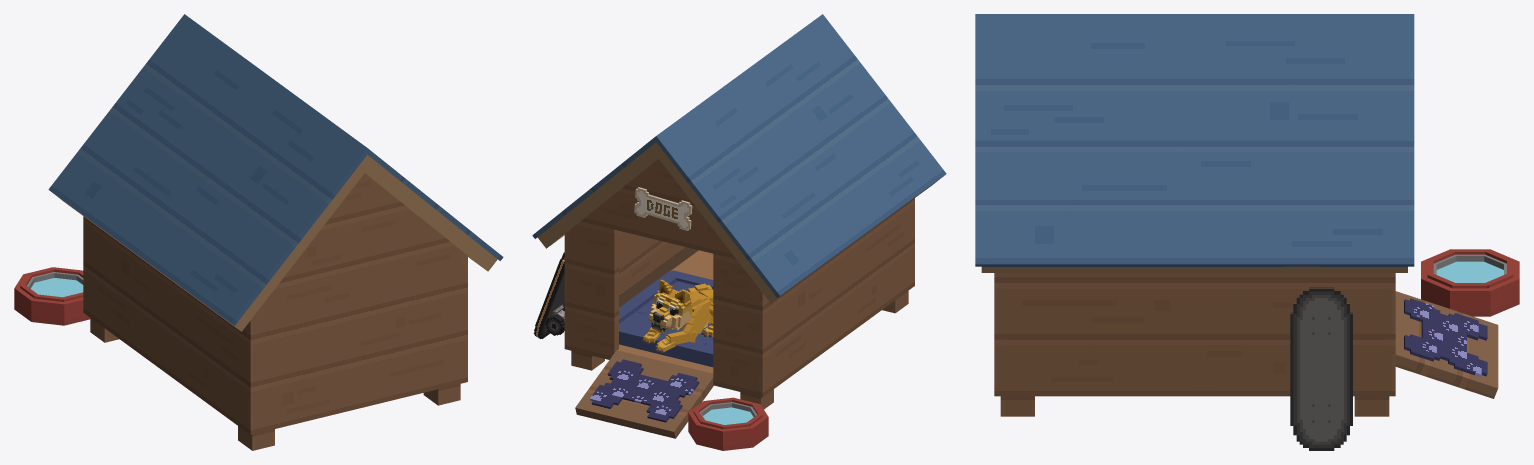
The model's file is doge-rest.gltf.
The picture shows the model from 3 angles, left to right: view 1: azimuth 30°, elevation 25°; view 2: azimuth 150°, elevation 25°; view 3: azimuth 270°, elevation 25°; orthographic projection. The views are drawn at different scales.
Parts seen in each view (by area): view 1: Roof 2-Local, House 2-Local, House 5-Local, House-Local, Roof-Local, Pot 3 (2)-Local, Food pot-Local, Pot 4-Local, Pot 4 (1)-Local, Pot 3 (1)-Local, House 3 c-Local; view 2: Roof 2-Local, House 5-Local, House-Local, Ramp-Local, House 3 b-Local, House 3 c-Local, Roof-Local, House 3-Local, House 4-Local, Head-Local, Bone-Local, Skatboard-Local (+7 smaller); view 3: Roof-Local, House 4-Local, Skatboard-Local, Ramp-Local, House-Local, Pot 3-Local, House 3 b-Local, Pot 4-Local, House 2-Local, Pot 2-Local, Pot 3 (2)-Local, Pot 4 (1)-Local (+2 smaller).
Boxes of the visible parts, x1,y1,x2,y2 form: Roof 2-Local: (48,14,374,331); House 2-Local: (245,173,467,425); House 5-Local: (83,218,259,424); House-Local: (83,303,467,450); Roof-Local: (241,56,503,271); Pot 3 (2)-Local: (31,287,77,325); Food pot-Local: (38,283,90,325); Pot 4-Local: (39,267,81,296); Pot 4 (1)-Local: (14,284,75,321); Pot 3 (1)-Local: (23,267,67,295); House 3 c-Local: (83,216,88,306); Roof 2-Local: (653,18,946,303); House 5-Local: (754,198,914,384); House-Local: (564,250,914,409); Ramp-Local: (575,350,713,438); House 3 b-Local: (564,194,618,352); House 3 c-Local: (713,230,767,388); Roof-Local: (532,14,825,248); House 3-Local: (614,159,713,253); House 4-Local: (564,228,698,341); Head-Local: (648,279,692,329); Bone-Local: (634,187,692,230); Skatboard-Local: (534,252,564,338); Roof-Local: (975,14,1414,272); House 4-Local: (994,273,1395,384); Skatboard-Local: (1290,287,1352,450); Ramp-Local: (1395,291,1498,398); House-Local: (994,385,1395,416); Pot 3-Local: (1450,270,1490,316); House 3 b-Local: (1383,273,1395,384); Pot 4-Local: (1471,266,1519,316); House 2-Local: (994,273,1006,384); Pot 2-Local: (1421,266,1493,308); Pot 3 (2)-Local: (1421,249,1493,278); Pot 4 (1)-Local: (1450,249,1490,270).
Size of the model in its own units: 134 by 124 by 174.
50 materials, 50 textured.
